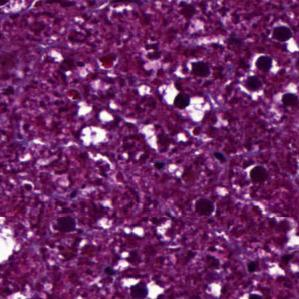inflammation: (165, 85, 207, 126), (234, 69, 267, 104), (116, 277, 161, 299), (246, 52, 279, 77)
